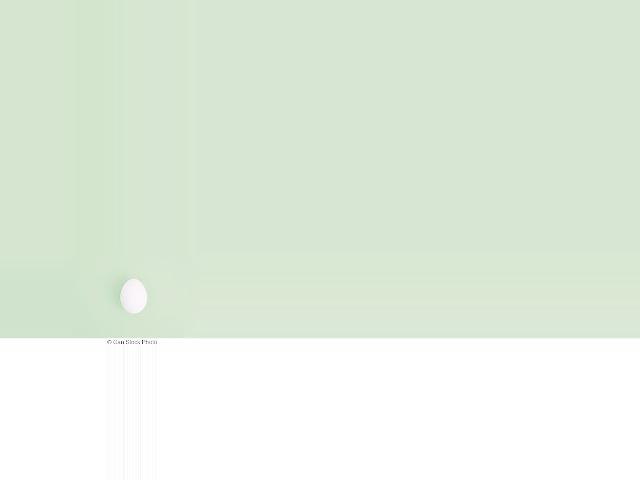egg: (120, 279, 147, 313)
